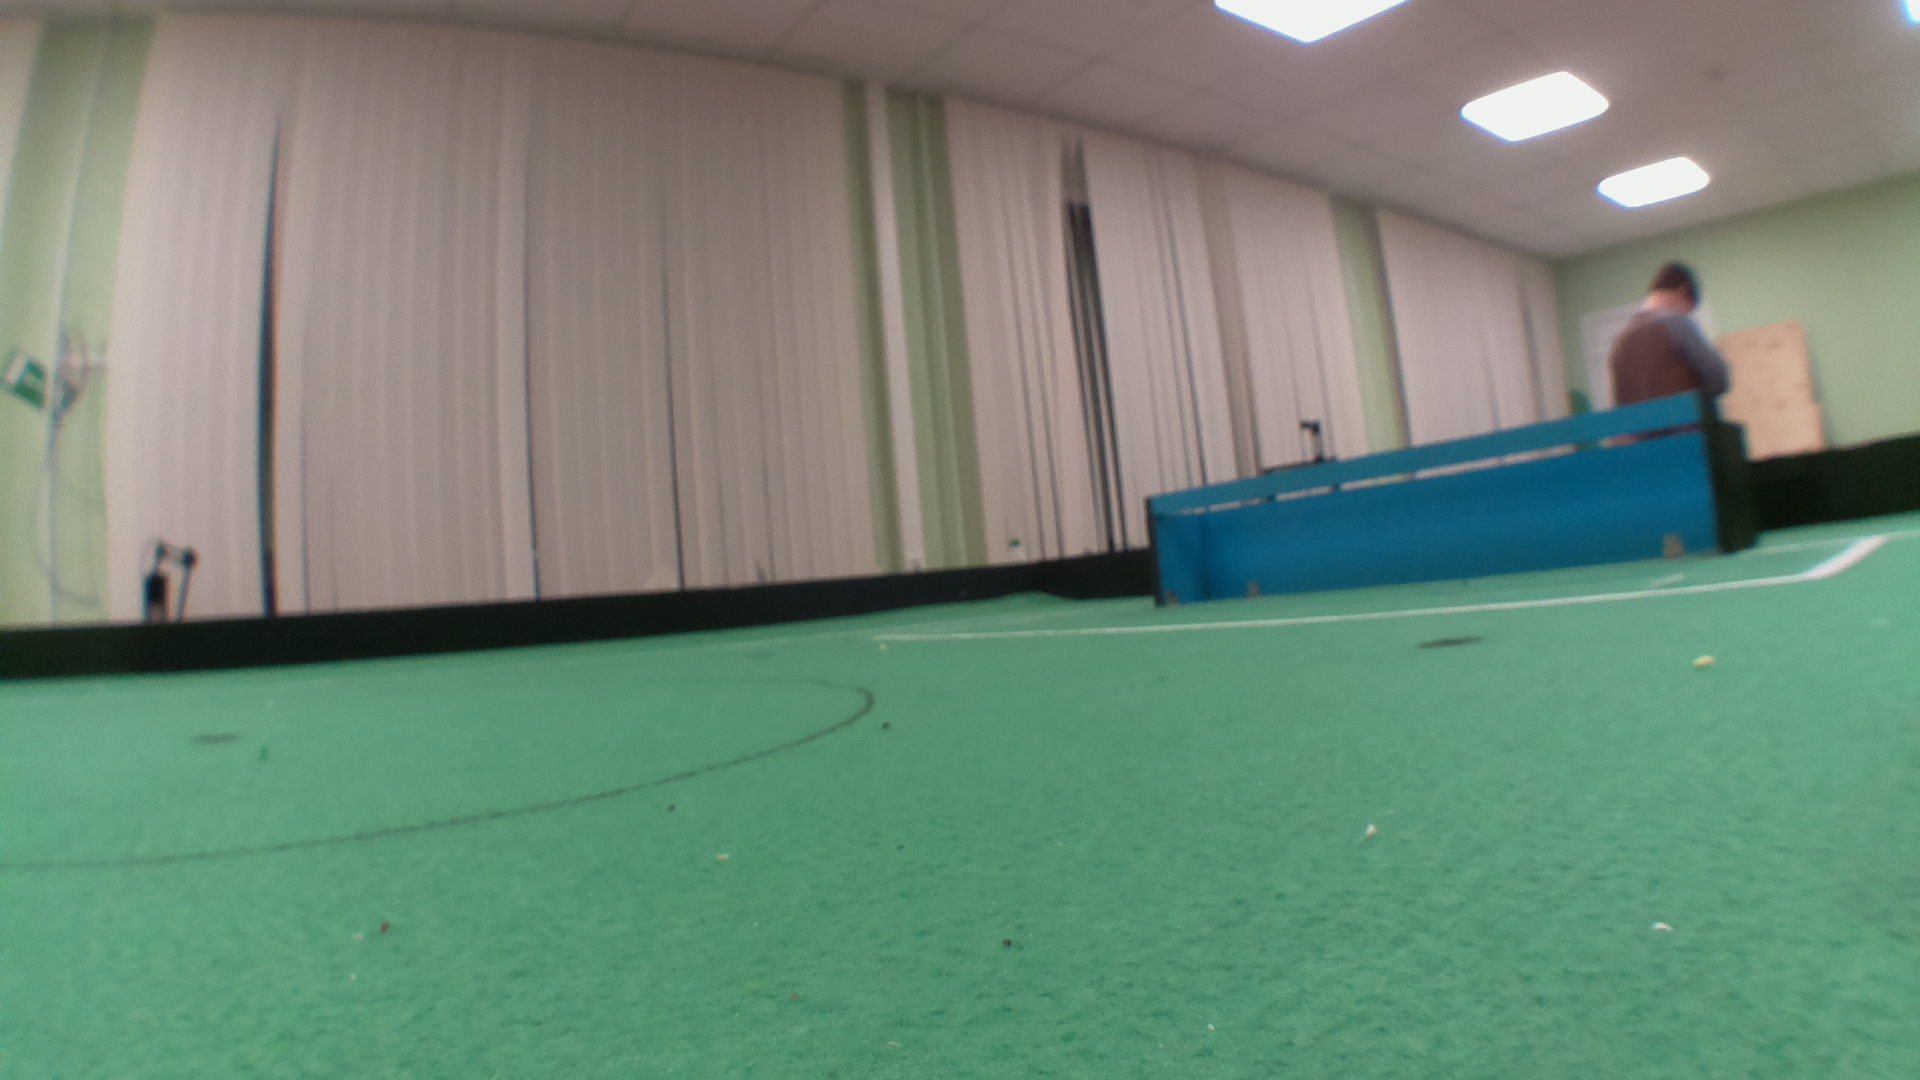BlueGoal: (1160, 392, 1702, 611)
